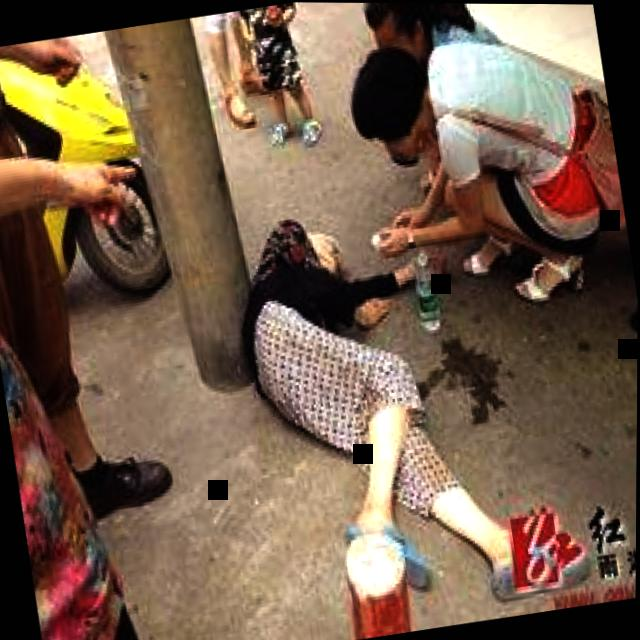Fall-Detected: (185, 157, 570, 640)
